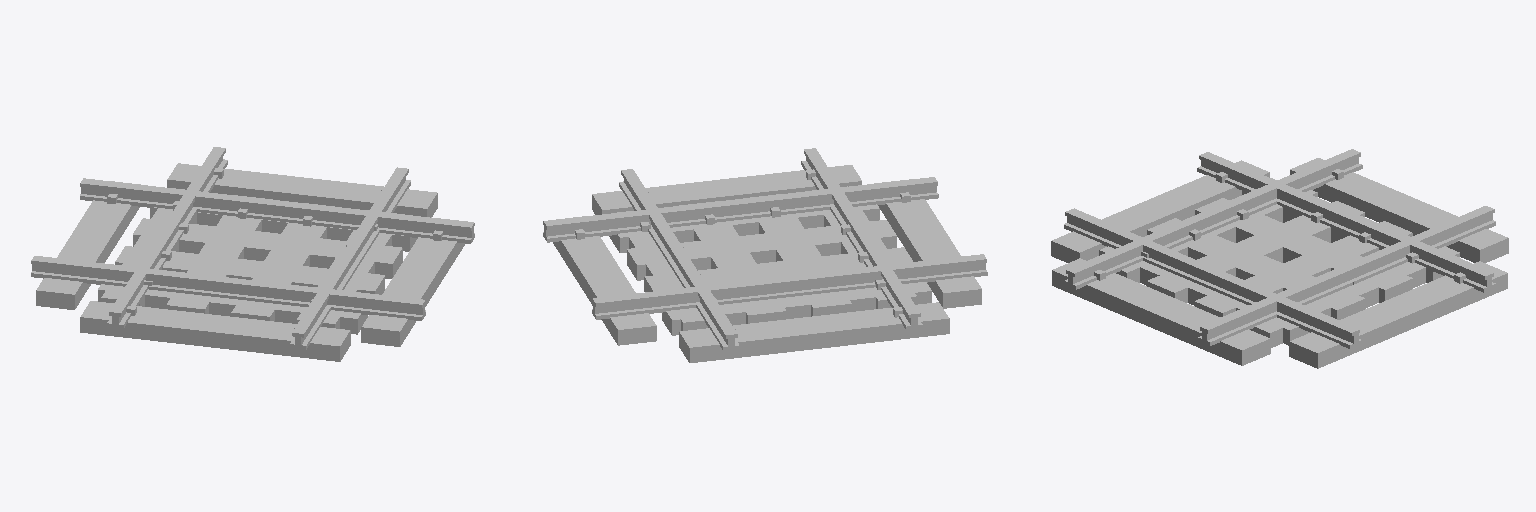
Rendered from track_diagonal_twoways_crossing.obj.
3 views of the same model, side by side, from view 1: azimuth 30°, elevation 25°; view 2: azimuth 150°, elevation 25°; view 3: azimuth 270°, elevation 25° (orthographic).
Visible parts, largest first — view 1: track_normal.002, track_normal.001; view 2: track_normal.002, track_normal.001; view 3: track_normal.001, track_normal.002.
Boxes of the visible parts, <box> form: track_normal.002: <box>80,147,437,361</box>; track_normal.001: <box>31,178,474,346</box>; track_normal.002: <box>543,177,987,345</box>; track_normal.001: <box>592,148,949,362</box>; track_normal.001: <box>1052,149,1508,365</box>; track_normal.002: <box>1051,152,1507,368</box>.
Size of the model in its own units: 1.62 by 0.1158 by 1.6.